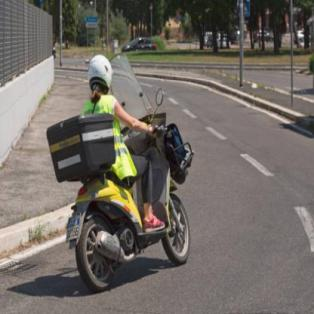Motocicleta: (48, 111, 196, 295)
